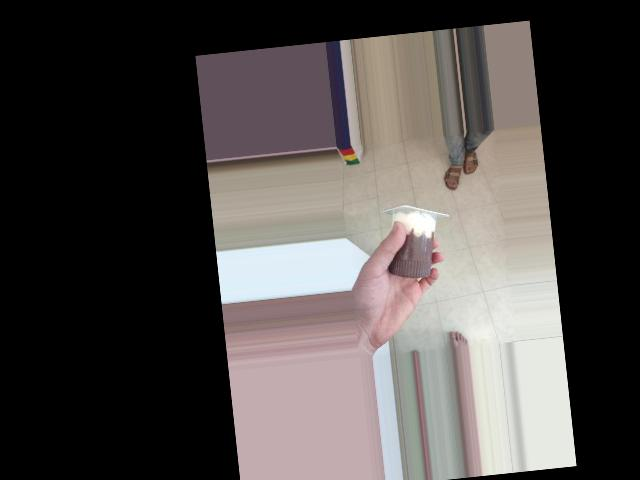milky: (391, 201, 448, 285)
